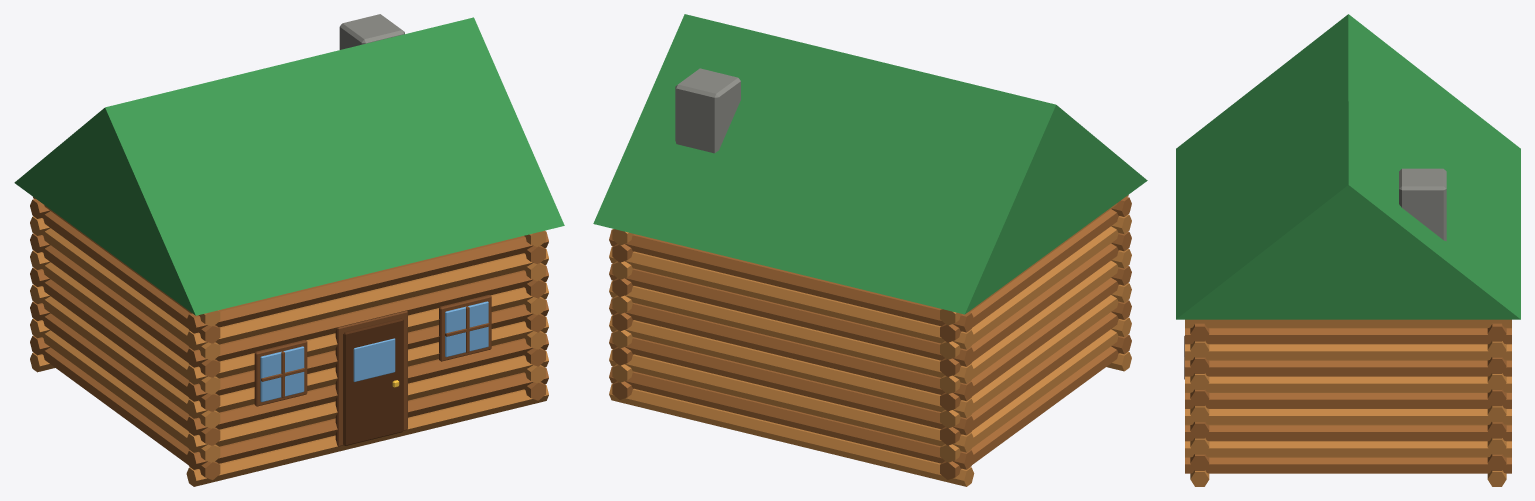
File: LogCabin.fbx
3 renders of one model, left to right at view 1: azimuth 30°, elevation 25°; view 2: azimuth 150°, elevation 25°; view 3: azimuth 270°, elevation 25°, orthographic. The views are drawn at different scales.
Parts seen in each view (by area): view 1: LogCabin; view 2: LogCabin; view 3: LogCabin.
Boxes of the visible parts, <box> form: LogCabin: <box>14,14,564,486</box>; LogCabin: <box>593,14,1147,486</box>; LogCabin: <box>1176,14,1520,486</box>.
Bounding box in the file's own units: 13.6 × 11.36 × 11.6.
Materials: 1 (1 with a texture image).
